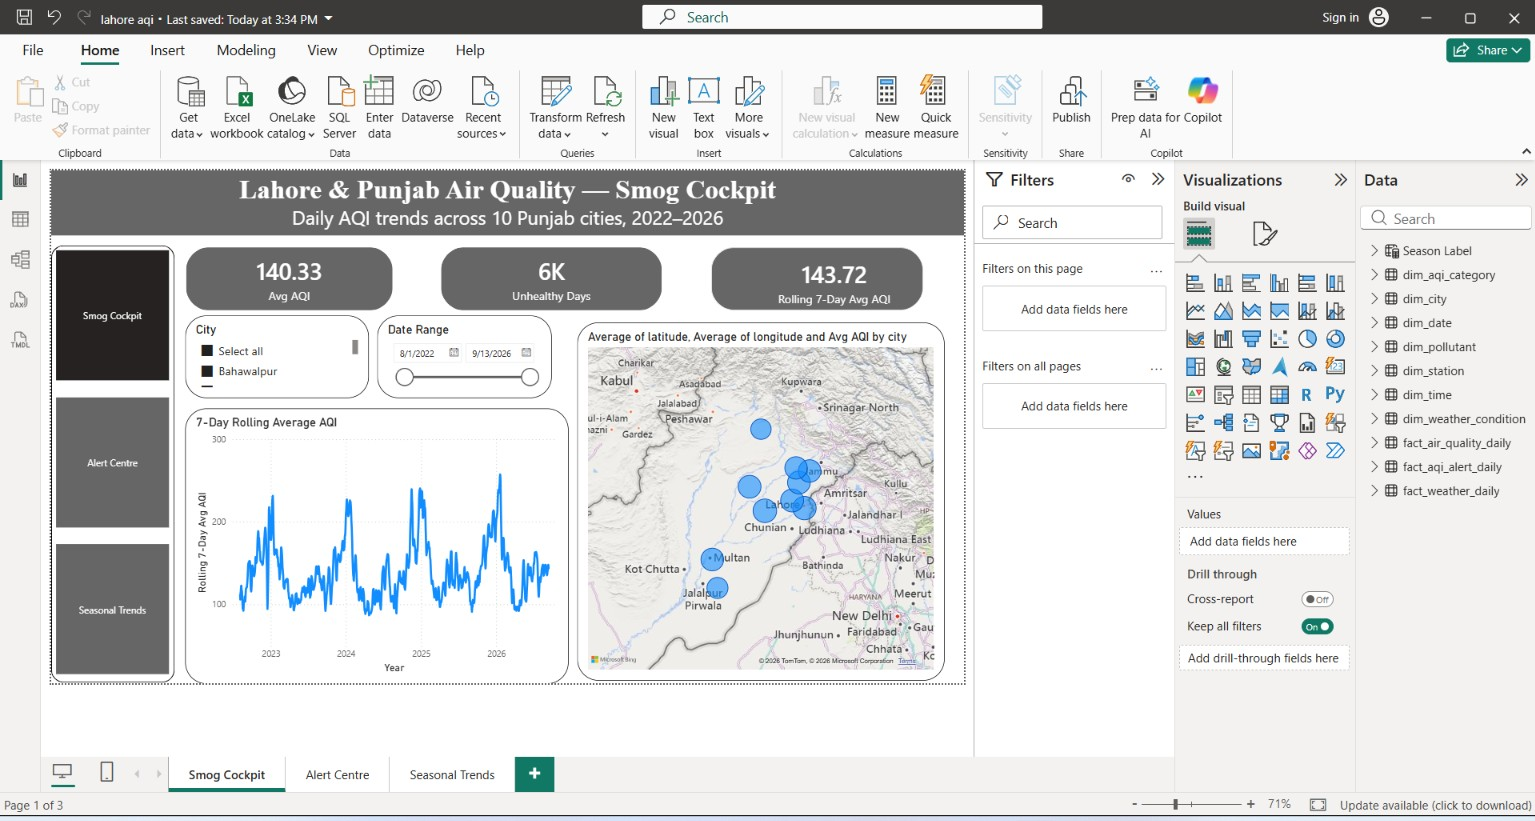

The page's visual inventory and layout, read from the dashboard file:
{"tool":"powerbi","page":{"name":"Smog Cockpit","canvas":[1280,720],"ordinal":0},"visuals":[{"type":"cardVisual","fields":{"Data":["_Measures.Avg AQI"]},"box":[172.5,91.2,323.8,122.5],"z":0},{"type":"cardVisual","fields":{"Data":["_Measures.Unhealthy Days"]},"box":[530,91.2,343.8,122.5],"z":1000},{"type":"cardVisual","fields":{"Data":["_Measures.Rolling 7-Day Avg AQI"]},"box":[908.8,91.2,331.2,122.5],"z":2000},{"type":"lineChart","title":"7-Day Rolling Average AQI","fields":{"Y":["_Measures.Rolling 7-Day Avg AQI"],"Category":["dim_date.date_key.Variation.Date Hierarchy.Year","dim_date.date_key.Variation.Date Hierarchy.Quarter","dim_date.date_key.Variation.Date Hierarchy.Month","dim_date.date_key.Variation.Date Hierarchy.Day"]},"box":[187.5,333.8,537.5,386.2],"z":3000},{"type":"slicer","title":"City","fields":{"Values":["dim_city.city"]},"box":[187.5,203.8,257.5,116.2],"z":4000},{"type":"slicer","title":"Date Range","fields":{"Values":["dim_date.date_key"]},"box":[457.5,203.8,245,116.2],"z":5000},{"type":"shape","box":[0,105.7,172.9,612.9],"z":6000},{"type":"pageNavigator","box":[0,105.7,172.9,610],"z":7000},{"type":"textbox","box":[0,0,1280,91.4],"z":8000},{"type":"map","fields":{"Category":["dim_city.city"],"Size":["Season Label.Avg AQI"],"Y":["Avg(dim_city.latitude)"],"X":["Avg(dim_city.longitude)"]},"box":[737.5,213.8,515,502.5],"z":9000}]}

Visuals, with their boxes on the page's 1280x720 design canvas (x1, y1, x2, y2). These are canvas units, not pixel positions in the 1535x821 screenshot, which may show the page scaled, cropped or inside an application window:
cardVisual - _Measures.Avg AQI: l=172, t=91, r=496, b=214
cardVisual - _Measures.Unhealthy Days: l=530, t=91, r=874, b=214
cardVisual - _Measures.Rolling 7-Day Avg AQI: l=909, t=91, r=1240, b=214
"7-Day Rolling Average AQI" lineChart: l=188, t=334, r=725, b=720
"City" slicer: l=188, t=204, r=445, b=320
"Date Range" slicer: l=458, t=204, r=702, b=320
shape: l=0, t=106, r=173, b=719
pageNavigator: l=0, t=106, r=173, b=716
textbox: l=0, t=0, r=1280, b=91
map - dim_city.city x Season Label.Avg AQI: l=738, t=214, r=1252, b=716
